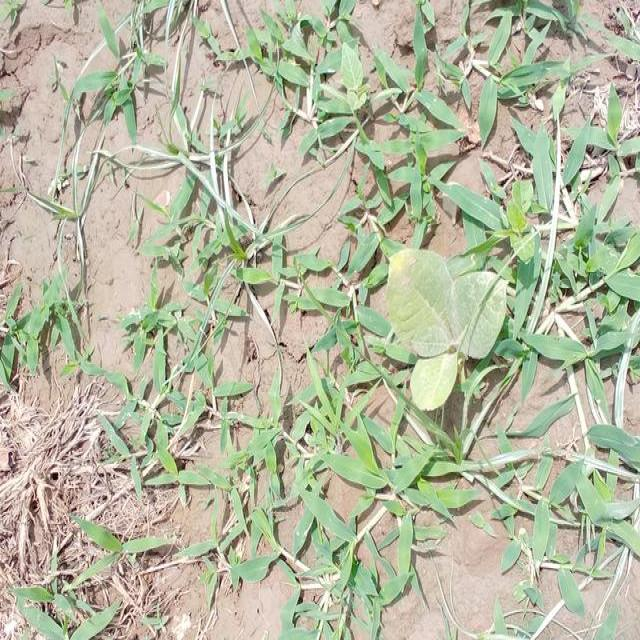crop: (379, 247, 508, 407)
